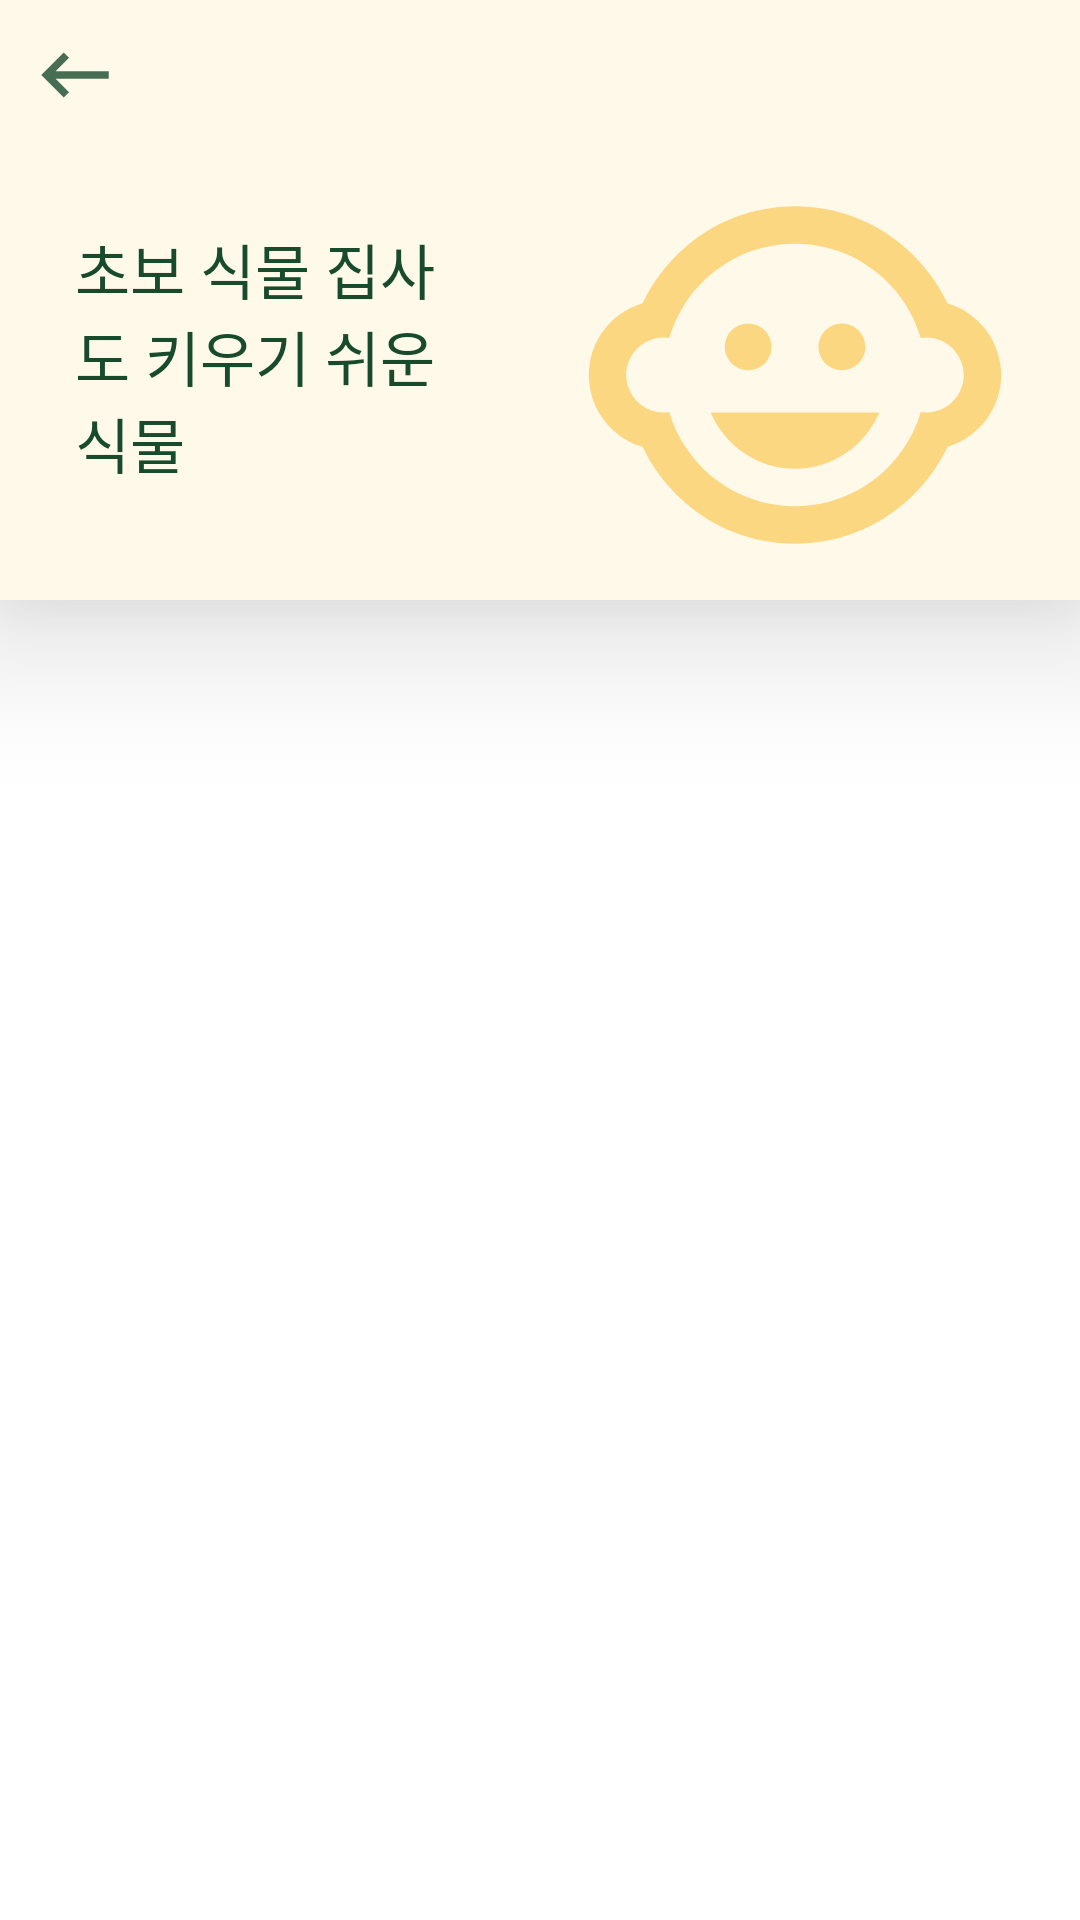

Locate icon controls on the screen. Image size 1080*1920, boxes as (x1, y1, x2, y2).
back: (41, 52, 109, 98)
